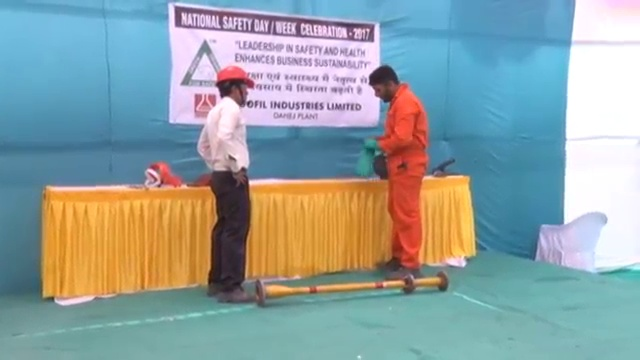helmet: (215, 65, 255, 92)
helmet_off: (370, 65, 400, 104)
helmet_on: (214, 65, 257, 108)
person: (194, 65, 258, 302), (369, 64, 430, 282)
